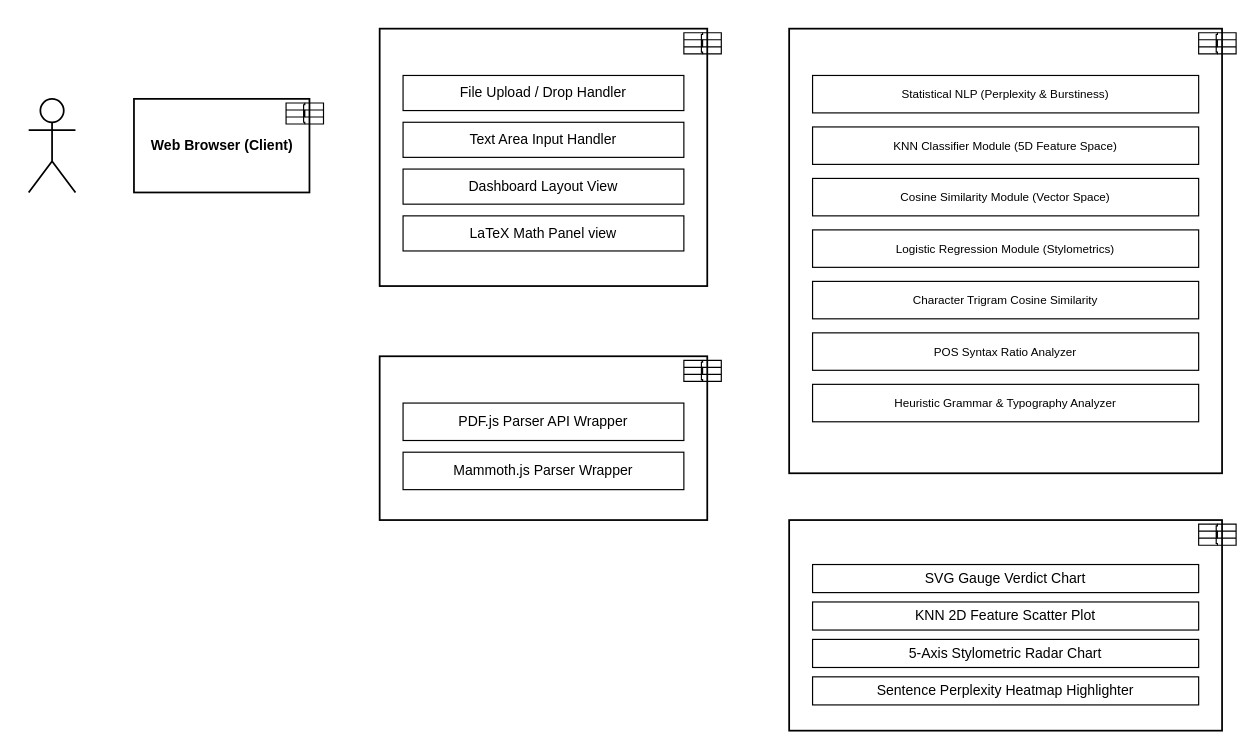
Image size: 1244x752. Some labels were removed from this diagram. The shapes that lost their labels are listed below. From the top down, each one's box as (x1, y1, x2, y2) in pixels, then its label:
(27, 97, 76, 193): User
(378, 27, 708, 286): Web Application (Frontend)
(788, 27, 1222, 474): AI Text Detector Scanning Engine
(378, 355, 708, 520): File Parser Module
(788, 519, 1222, 731): Chart & Visual Renderer Module
